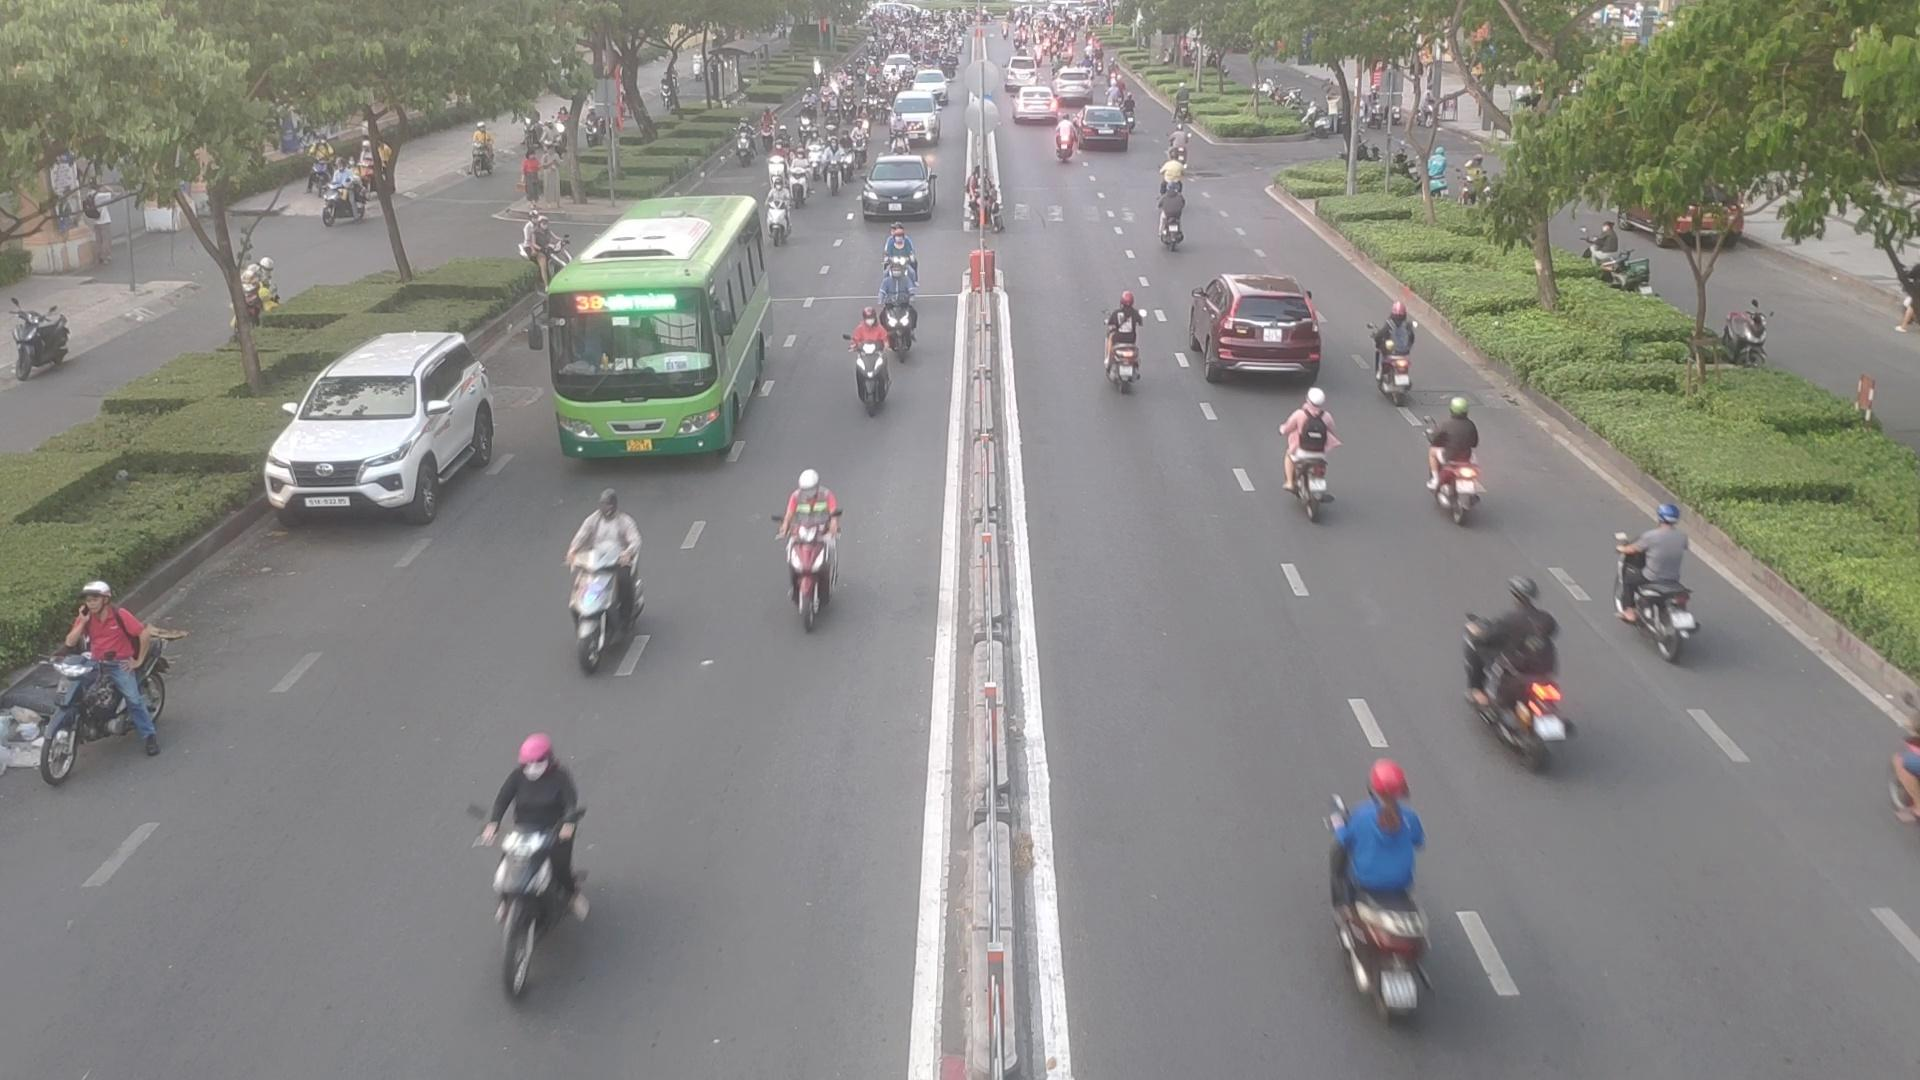bus: (543, 219, 782, 467)
car: (266, 331, 513, 526), (1192, 273, 1328, 386), (861, 156, 943, 223), (1013, 91, 1060, 127)
motorbike: (1309, 791, 1437, 1026), (483, 736, 596, 988), (26, 584, 171, 760), (1470, 576, 1576, 771), (766, 473, 857, 626), (560, 512, 653, 659), (1623, 518, 1714, 658), (1423, 397, 1494, 524), (1274, 401, 1344, 516), (840, 299, 910, 413), (1095, 291, 1149, 394), (1145, 170, 1185, 251), (1147, 154, 1185, 199), (1051, 121, 1079, 164)
